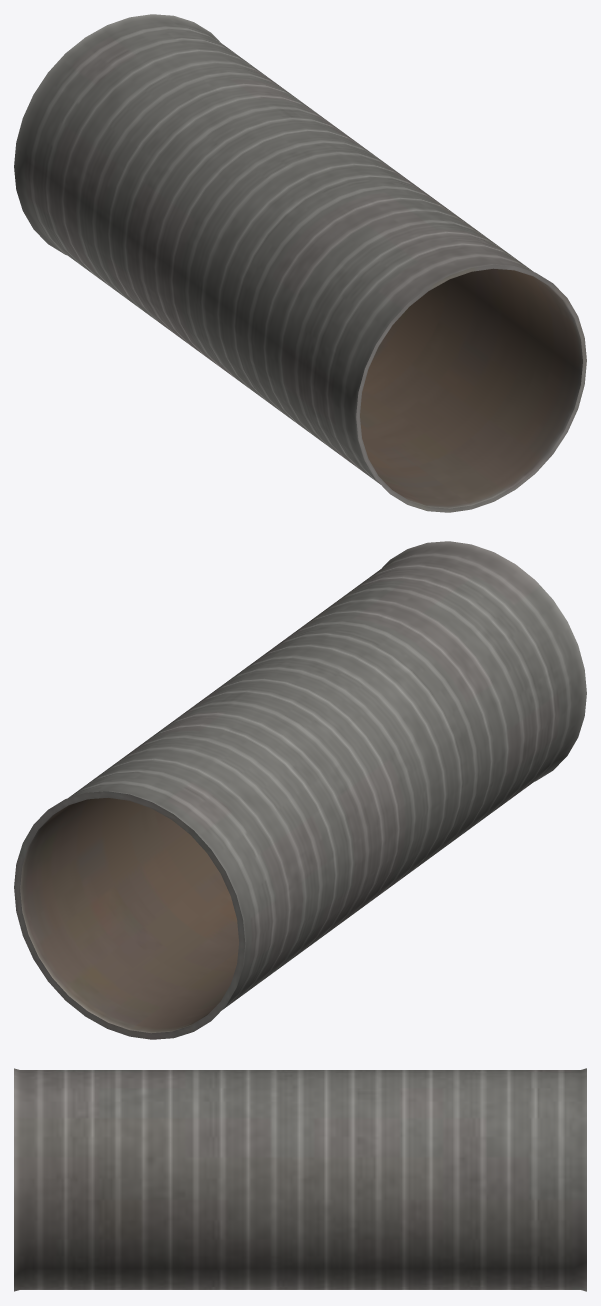
Rendered from circular_double.gltf.
3 renders of one model, top to bottom at view 1: azimuth 30°, elevation 25°; view 2: azimuth 150°, elevation 25°; view 3: azimuth 270°, elevation 25°, orthographic. The views are drawn at different scales.
Visible parts, largest first — view 1: circular_double; view 2: circular_double; view 3: circular_double.
Boxes of the visible parts, bbox=[...] form: circular_double: bbox=[14, 14, 586, 512]; circular_double: bbox=[14, 541, 586, 1039]; circular_double: bbox=[14, 1068, 586, 1291].
Bounding box in the file's own units: 0.3704 × 0.3707 × 0.9483.
1 material, 1 textured.
